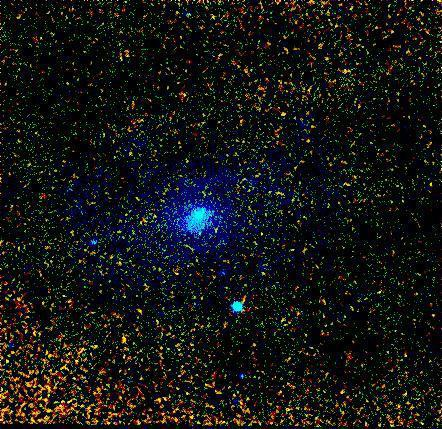star: (113, 317, 143, 347)
